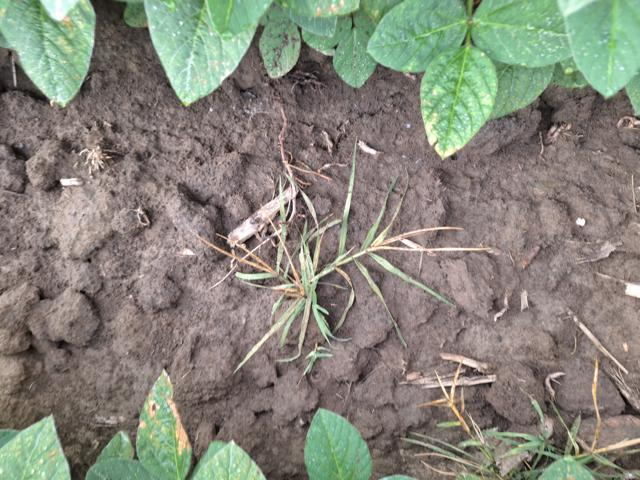bad weed: (201, 116, 461, 348), (386, 355, 640, 480)
